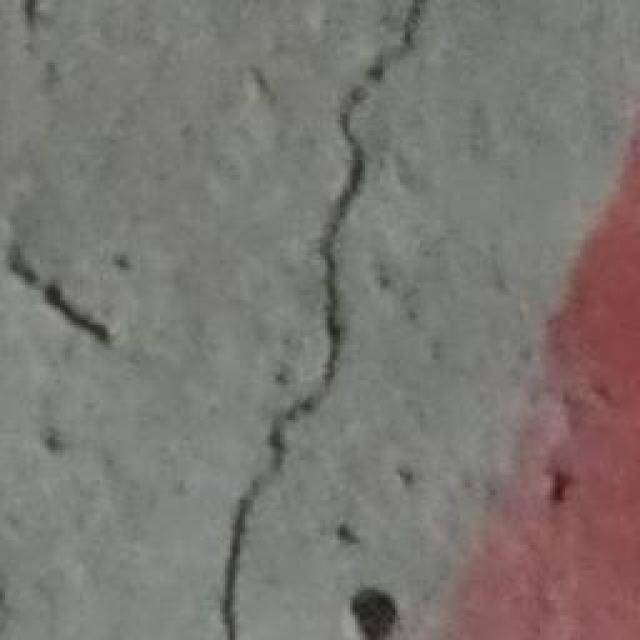Longitudinal: (198, 0, 427, 640)
